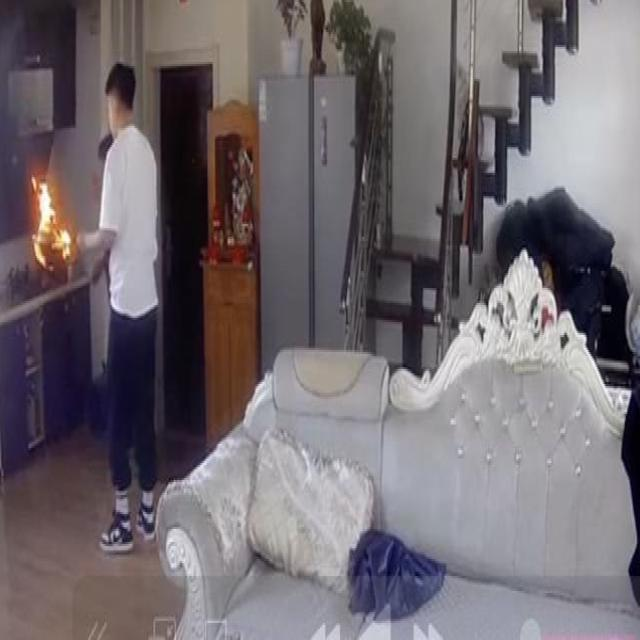smoke: (26, 168, 76, 280)
